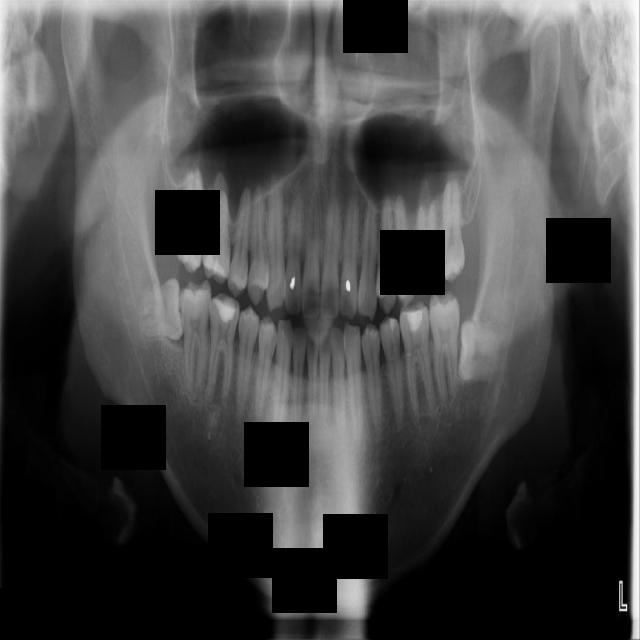52: (204, 289, 244, 340), (396, 299, 434, 348), (199, 232, 233, 285), (412, 244, 442, 297), (339, 262, 359, 319), (379, 315, 402, 362), (284, 262, 302, 317)
73: (609, 599, 614, 609)
BioHorizons Implant: (439, 179, 469, 284)
Biomet 3i Implant: (457, 319, 499, 383)
Blue Sky Bio Implant: (426, 290, 470, 406)
Caries: (174, 167, 206, 275)
Implant: (179, 280, 214, 392)
Keystone Dental Implant: (133, 274, 188, 345)
